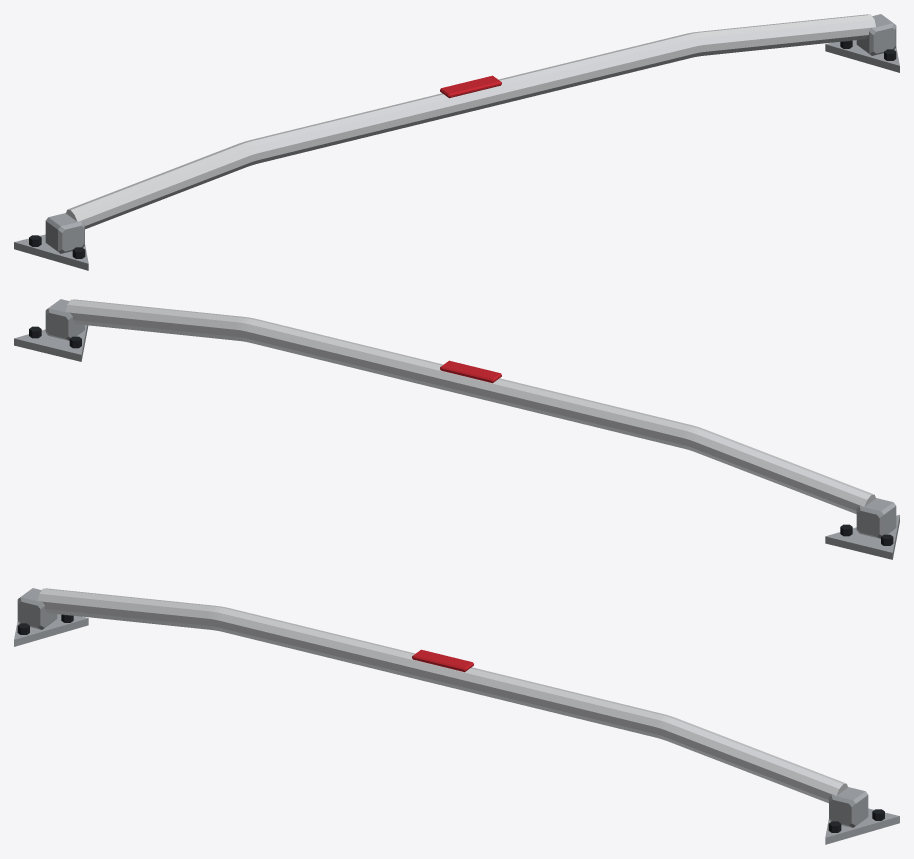
The model's file is brute_500.glb.
3 views of the same model, one above another, from view 1: azimuth 30°, elevation 25°; view 2: azimuth 150°, elevation 25°; view 3: azimuth 330°, elevation 25° (orthographic).
Visible parts, largest first — view 1: model; view 2: model; view 3: model.
Boxes of the visible parts, bbox=[...] form: model: bbox=[14, 14, 899, 270]; model: bbox=[14, 299, 899, 559]; model: bbox=[14, 588, 899, 844].
Bounding box in the file's own units: 1.3 × 0.099 × 0.1051.
3 materials, 1 textured.
